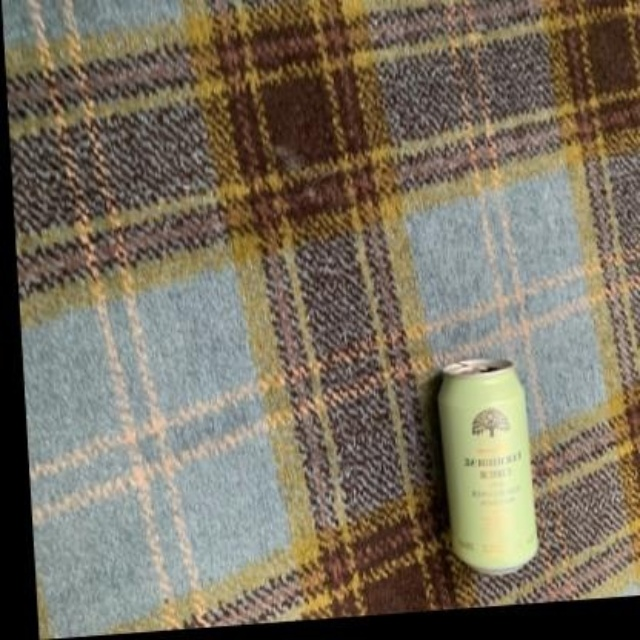trash: (438, 358, 537, 572)
